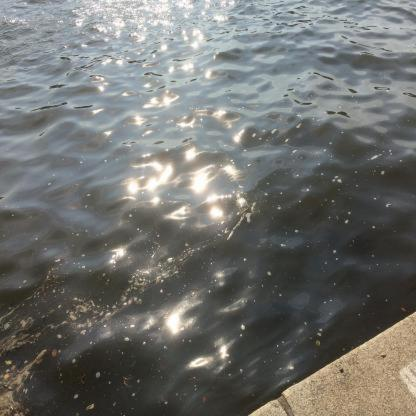Plastic bag - wrapper: (236, 197, 250, 214)
